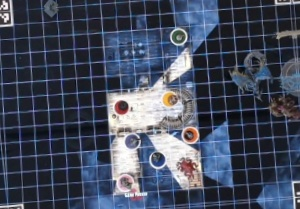blue: (142, 147, 171, 171)
green: (167, 25, 188, 45)
orange: (179, 124, 200, 146)
pink: (114, 170, 136, 194)
red: (110, 97, 129, 118)
violet: (122, 130, 140, 151)
yellow: (158, 87, 178, 110)
